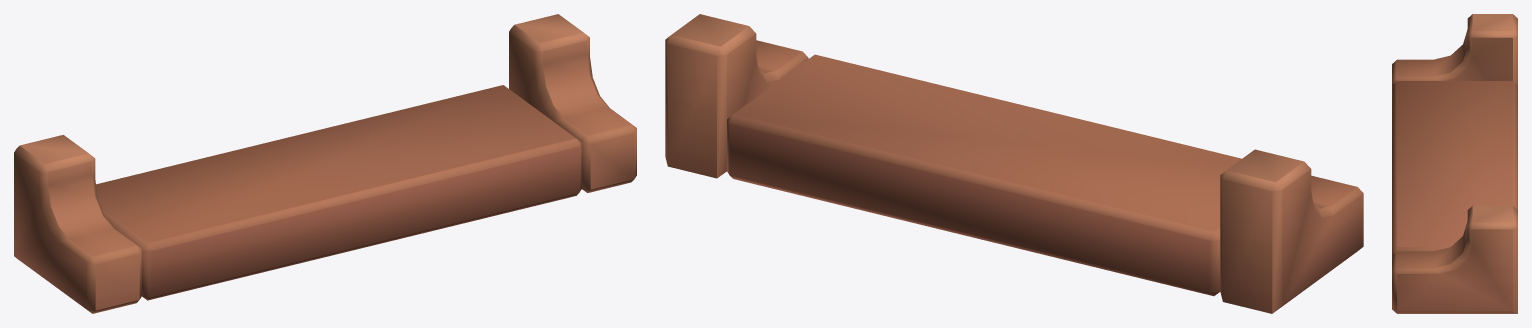
Rendered from shelf_B_large.glb.
3 views of the same model, side by side, from view 1: azimuth 30°, elevation 25°; view 2: azimuth 150°, elevation 25°; view 3: azimuth 270°, elevation 25° (orthographic). The views are drawn at different scales.
Visible parts, largest first — view 1: shelf_B_large; view 2: shelf_B_large; view 3: shelf_B_large.
Part boxes in pixels (x1,y1,x2,y2): shelf_B_large: (14,14,636,313); shelf_B_large: (665,14,1363,313); shelf_B_large: (1392,14,1517,313).
Size of the model in its own units: 2 by 0.3999 by 0.5001.
Materials: 1 (1 with a texture image).
